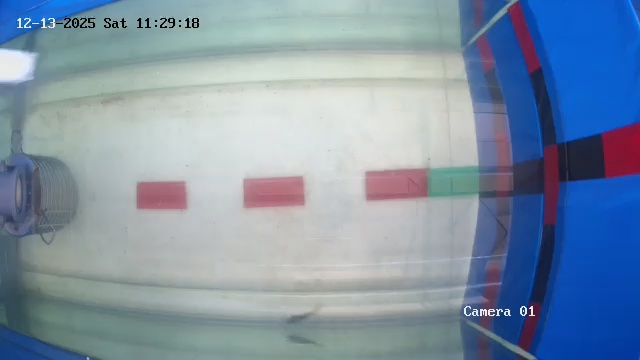fish: (287, 304, 335, 326)
